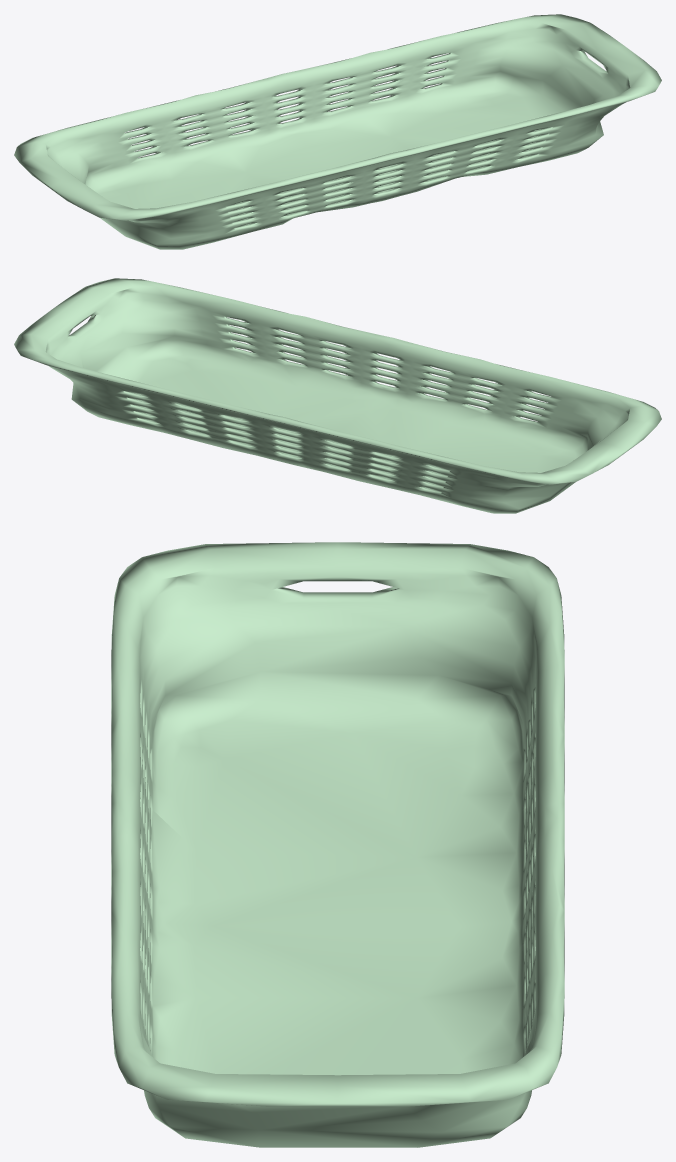
Rendered from basket.fbx.
3 views of the same model, one above another, from view 1: azimuth 30°, elevation 25°; view 2: azimuth 150°, elevation 25°; view 3: azimuth 270°, elevation 25° (orthographic). The views are drawn at different scales.
Parts seen in each view (by area): view 1: basic_laundry_basket_Cube; view 2: basic_laundry_basket_Cube; view 3: basic_laundry_basket_Cube.
Boxes of the visible parts, box(x1,y1,x2,y2) form: basic_laundry_basket_Cube: box(14, 14, 661, 249); basic_laundry_basket_Cube: box(14, 278, 661, 513); basic_laundry_basket_Cube: box(111, 542, 564, 1147).
Size of the model in its own units: 0.4082 by 0.0392 by 0.139.
